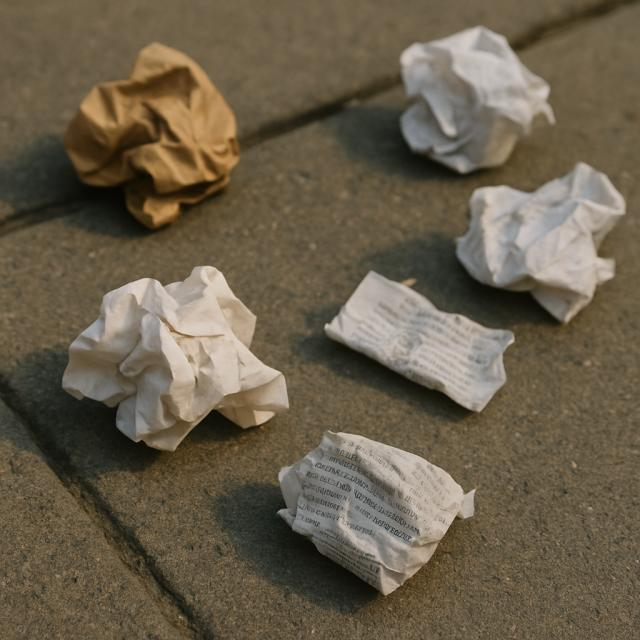paper: (54, 259, 294, 448), (59, 41, 240, 228), (286, 422, 477, 594), (320, 269, 516, 413), (382, 18, 558, 172)
